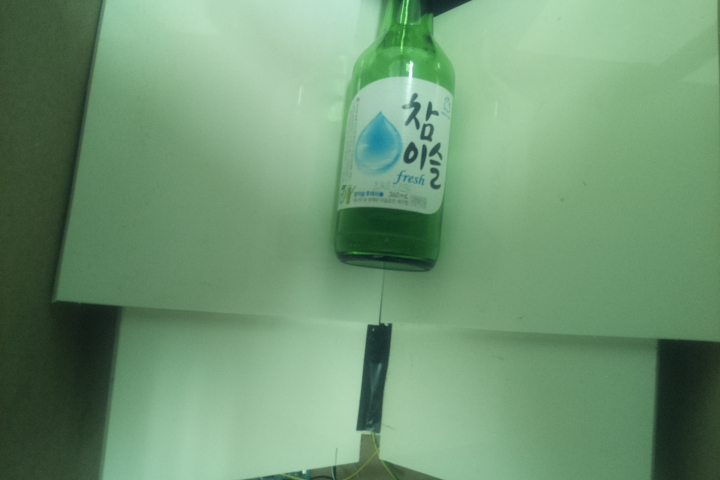soju: (333, 1, 457, 275)
